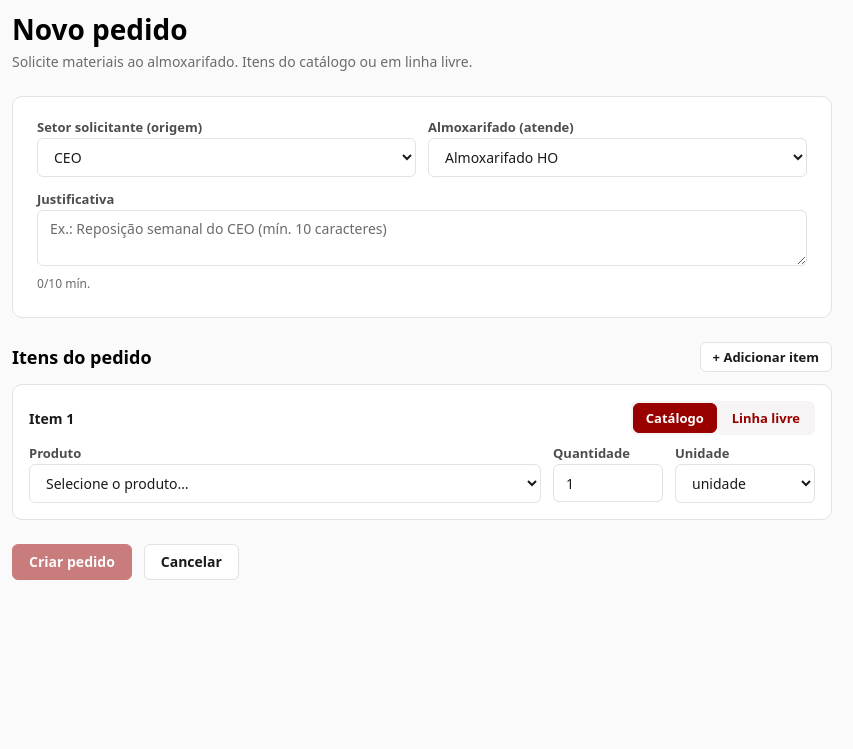
Test: NovoPedido › permite adicionar e remover itens
Expected: the text "Item 1" is shown, [29,408,74,428]
Click the button "+ Adicionar item": point(766, 357) [700,342,832,372]
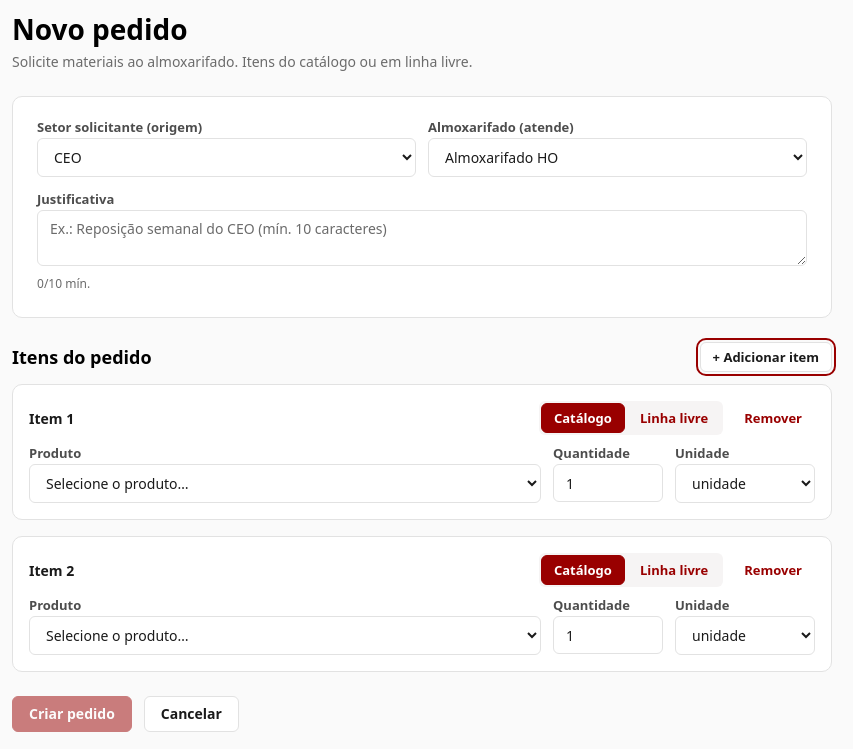
Expected: the text "Item 2" is shown, [29,560,74,580]
Click the 1st button "Remover": point(773, 418) [731,403,815,433]
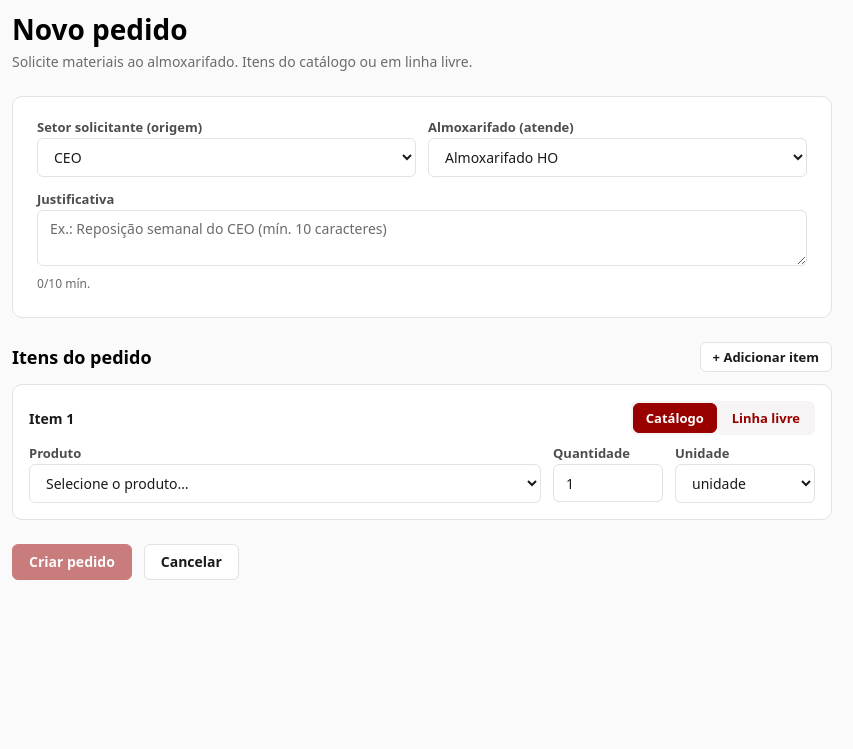
Expected: the text "Item 2" is gone
